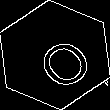O_NW: (20, 22, 90, 88)
